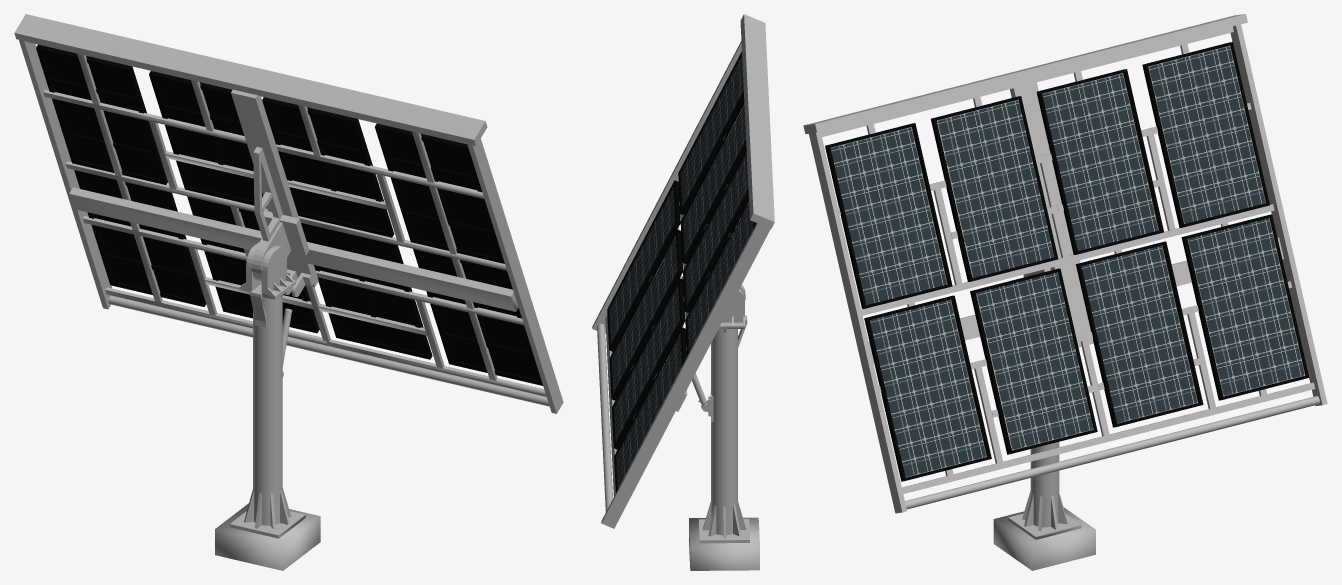
File: 光伏板.glb
3 renders of one model, left to right at view 1: azimuth 30°, elevation 25°; view 2: azimuth 150°, elevation 25°; view 3: azimuth 270°, elevation 25°, orthographic. The views are drawn at different scales.
Visible parts, largest first — view 1: Obj3d66-17891014-2-931, Obj3d66-17891014-14-731, Obj3d66-17891014-6-769; view 2: Obj3d66-17891014-15-963, Obj3d66-17891014-2-931, Obj3d66-17891014-6-769, Obj3d66-17891014-14-731; view 3: Obj3d66-17891014-15-963, Obj3d66-17891014-2-931, Obj3d66-17891014-14-731, Obj3d66-17891014-6-769.
Part boxes in pixels (box(x1,y1,x2,y2)): Obj3d66-17891014-2-931: box(14, 14, 563, 413); Obj3d66-17891014-14-731: box(36, 44, 542, 385); Obj3d66-17891014-6-769: box(215, 242, 320, 570); Obj3d66-17891014-15-963: box(609, 56, 753, 487); Obj3d66-17891014-2-931: box(592, 14, 774, 528); Obj3d66-17891014-6-769: box(689, 289, 759, 570); Obj3d66-17891014-14-731: box(607, 51, 756, 492); Obj3d66-17891014-15-963: box(830, 45, 1305, 477); Obj3d66-17891014-2-931: box(803, 14, 1327, 513); Obj3d66-17891014-14-731: box(825, 42, 1309, 481); Obj3d66-17891014-6-769: box(993, 270, 1095, 570).
Bounding box in the file's own units: 2 × 2.49 × 2.51.
3 materials, 1 textured.
